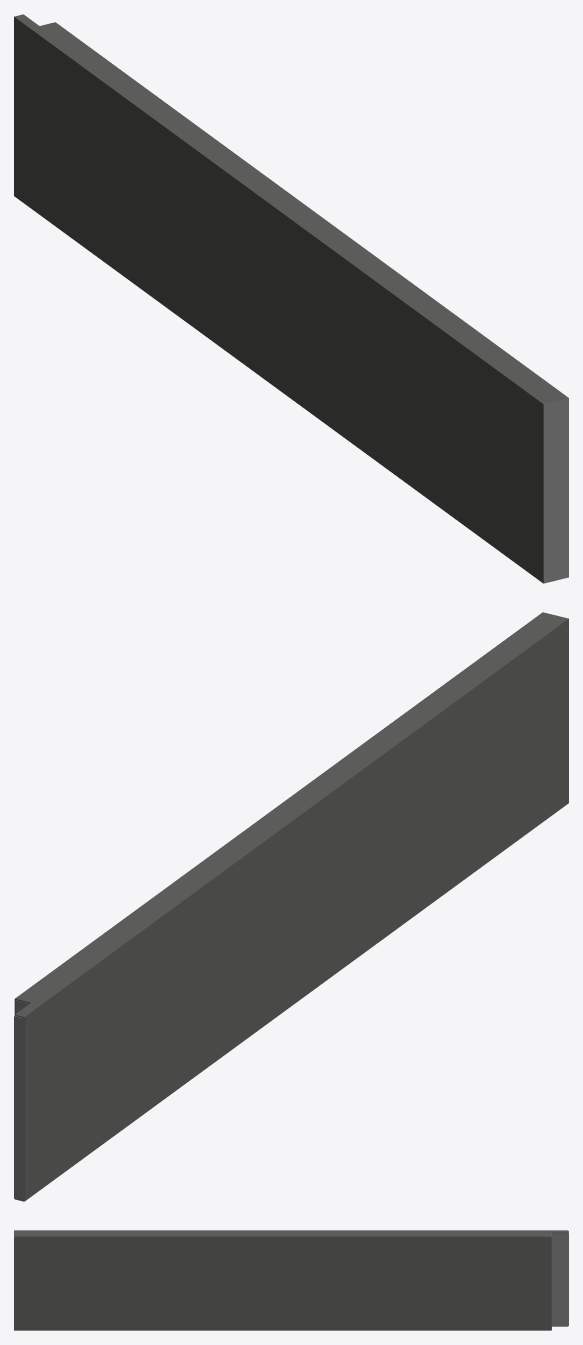
Rendered from mv-boxcap-550-p.glb.
The picture shows the model from 3 angles, top to bottom: view 1: azimuth 30°, elevation 25°; view 2: azimuth 150°, elevation 25°; view 3: azimuth 270°, elevation 25°; orthographic projection. The views are drawn at different scales.
Visible parts, largest first — view 1: geometry_0; view 2: geometry_0; view 3: geometry_0.
Boxes of the visible parts, <box> form: geometry_0: <box>14,14,568,583</box>; geometry_0: <box>14,612,568,1201</box>; geometry_0: <box>14,1230,568,1330</box>.
Bounding box in the file's own units: 0.015 × 0.101 × 0.5407.
1 material, 1 textured.
